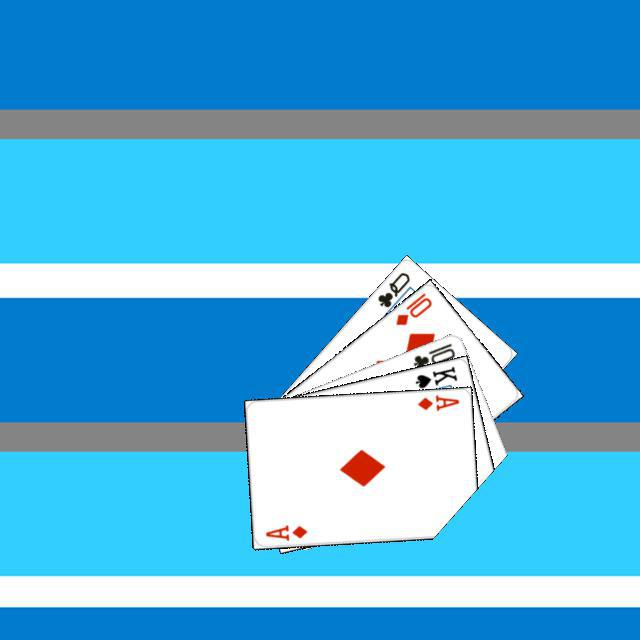10c: (408, 338, 457, 371)
10d: (390, 288, 434, 327)
Ad: (413, 390, 461, 413), (261, 520, 308, 543)
Ks: (410, 361, 459, 390)
Qc: (372, 267, 414, 317)
